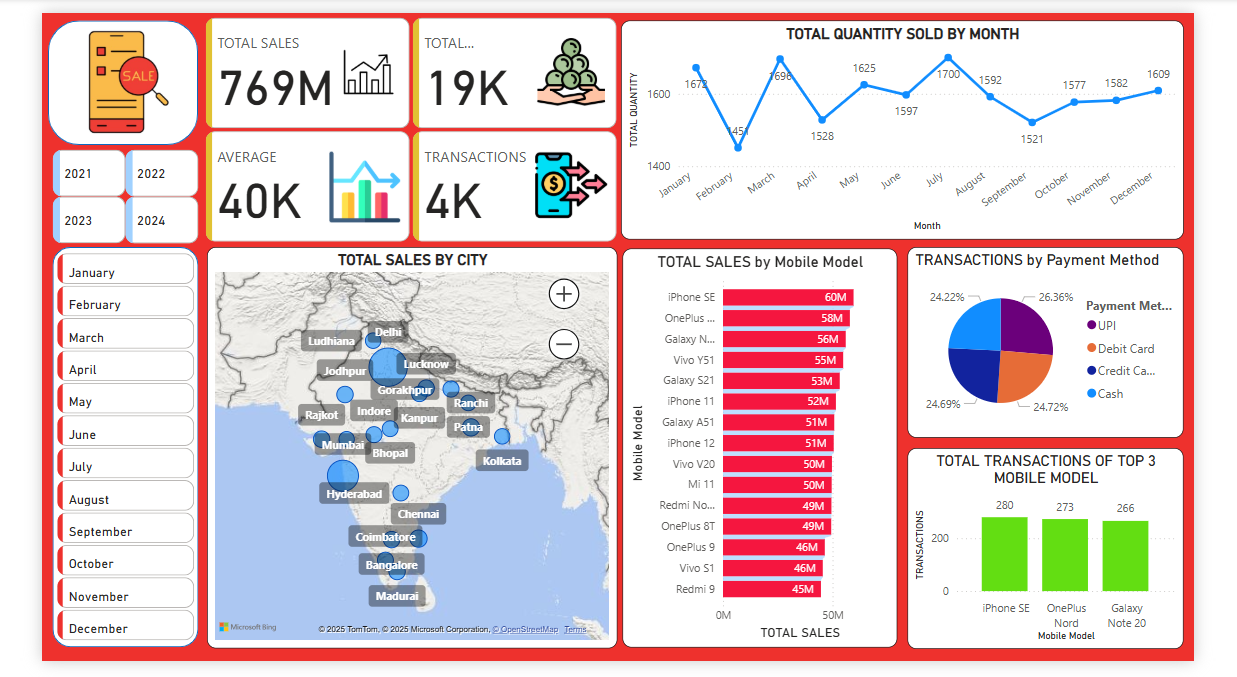

The dashboard page shown, as its layout file describes it:
{"tool":"powerbi","page":{"name":"Page 1","canvas":[1280,720],"ordinal":0},"visuals":[{"type":"shape","box":[12.1,260.3,162.1,444.8],"z":0},{"type":"advancedSlicerVisual","fields":{"Values":["Sales data.Date.Variation.Date Hierarchy.Month"]},"box":[12.1,262.1,162.1,443.1],"z":1000},{"type":"cardVisual","fields":{"Data":["Sales data.TOTAL SALES","Sales data.TOTAL QUANTITY","Sales data.AVERAGE","Sales data.TRANSACTIONS"]},"box":[176,0,468,260],"z":2000},{"type":"map","title":"TOTAL SALES BY CITY      ","fields":{"Category":["Sales data.City"],"Size":["Sales data.TOTAL SALES"]},"box":[184,260,456,446],"z":3000},{"type":"lineChart","title":"TOTAL QUANTITY SOLD BY MONTH","fields":{"Y":["Sales data.TOTAL QUANTITY"],"Category":["Sales data.Date.Variation.Date Hierarchy.Month","Sales data.Date.Variation.Date Hierarchy.Day"]},"box":[643.3,8.3,625,243.3],"z":4000},{"type":"clusteredColumnChart","title":"TOTAL TRANSACTIONS OF TOP 3 MOBILE MODEL","fields":{"Category":["Sales data.Mobile Model"],"Y":["Sales data.TRANSACTIONS"]},"box":[961.7,483.3,306.7,223.3],"z":5000},{"type":"pieChart","fields":{"Category":["Sales data.Payment Method"],"Y":["Sales data.TRANSACTIONS"]},"box":[961.7,260,306.7,211.7],"z":6000},{"type":"barChart","fields":{"Category":["Sales data.Mobile Model"],"Y":["Sales data.TOTAL SALES"]},"box":[645,261.7,305,443.3],"z":7000},{"type":"advancedSlicerVisual","fields":{"Values":["Sales data.Date.Variation.Date Hierarchy.Year"]},"box":[6.7,146.7,173.3,115],"z":8000},{"type":"shape","box":[6.7,8.3,166.7,138.3],"z":9000},{"type":"image","box":[15,8.3,158.3,135],"z":9001}]}

Visuals, with their boxes in screenshot pixels (x1, y1, x2, y2), scaled from the page's 1280x720 canvas onto the 1237x677 screenshot:
shape: left=12, top=245, right=168, bottom=663
advancedSlicerVisual - Sales data.Date.Variation.Date Hierarchy.Month: left=12, top=246, right=168, bottom=663
cardVisual - Sales data.TOTAL SALES x Sales data.TOTAL QUANTITY: left=170, top=0, right=622, bottom=244
"TOTAL SALES BY CITY      " map: left=178, top=244, right=618, bottom=664
"TOTAL QUANTITY SOLD BY MONTH" lineChart: left=622, top=8, right=1226, bottom=237
"TOTAL TRANSACTIONS OF TOP 3 MOBILE MODEL" clusteredColumnChart: left=929, top=454, right=1226, bottom=664
pieChart - Sales data.Payment Method x Sales data.TRANSACTIONS: left=929, top=244, right=1226, bottom=444
barChart - Sales data.Mobile Model x Sales data.TOTAL SALES: left=623, top=246, right=918, bottom=663
advancedSlicerVisual - Sales data.Date.Variation.Date Hierarchy.Year: left=6, top=138, right=174, bottom=246
shape: left=6, top=8, right=168, bottom=138
image: left=14, top=8, right=167, bottom=135
